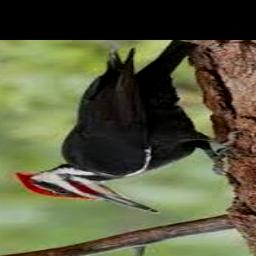Woodpecker: (15, 41, 255, 214)
